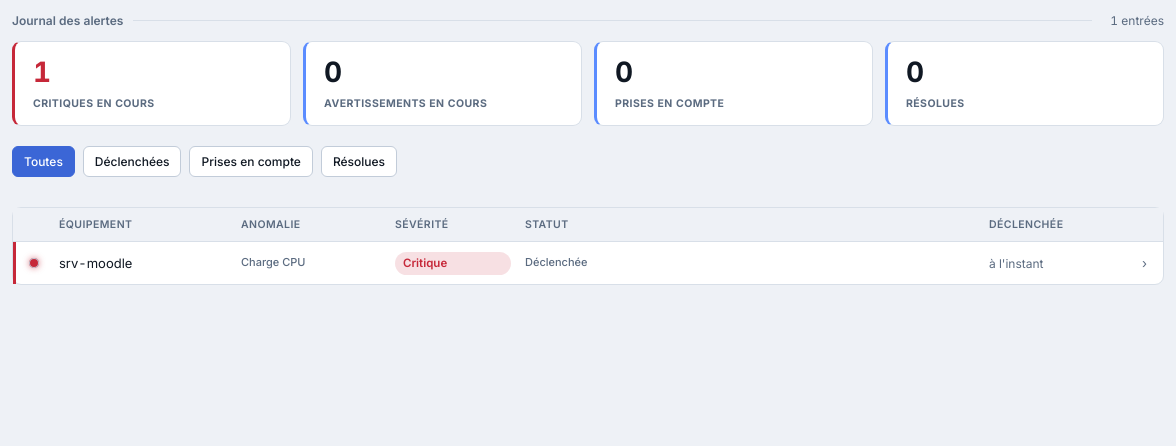
it: AlertesPage › ouvre la fiche d'une alerte au clic sur sa ligne
Click the button "srv-moodle Charge CPU Critique Déclenchée à l'instant ›".
click(588, 263)  # box [13, 242, 1163, 284]
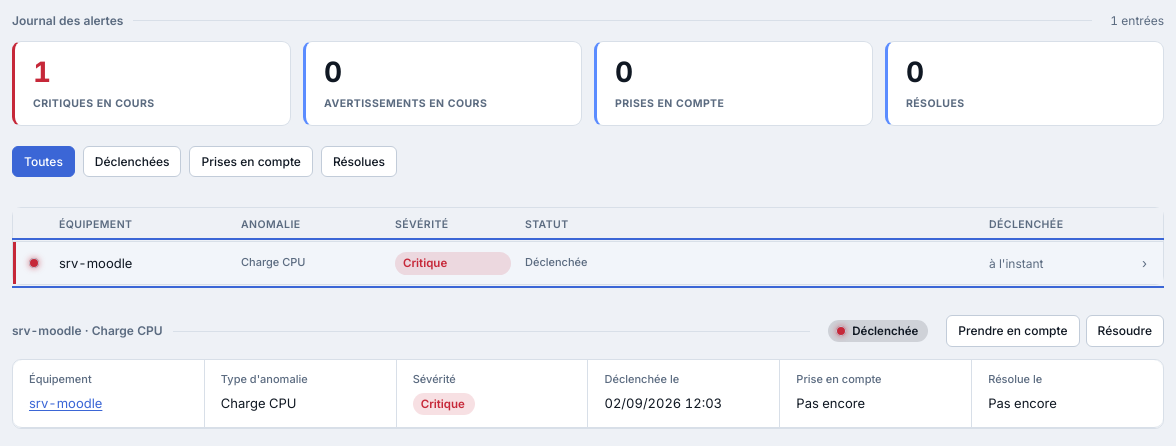
Check: the heading "srv-moodle · Charge CPU" is shown, box [12, 323, 163, 338]
